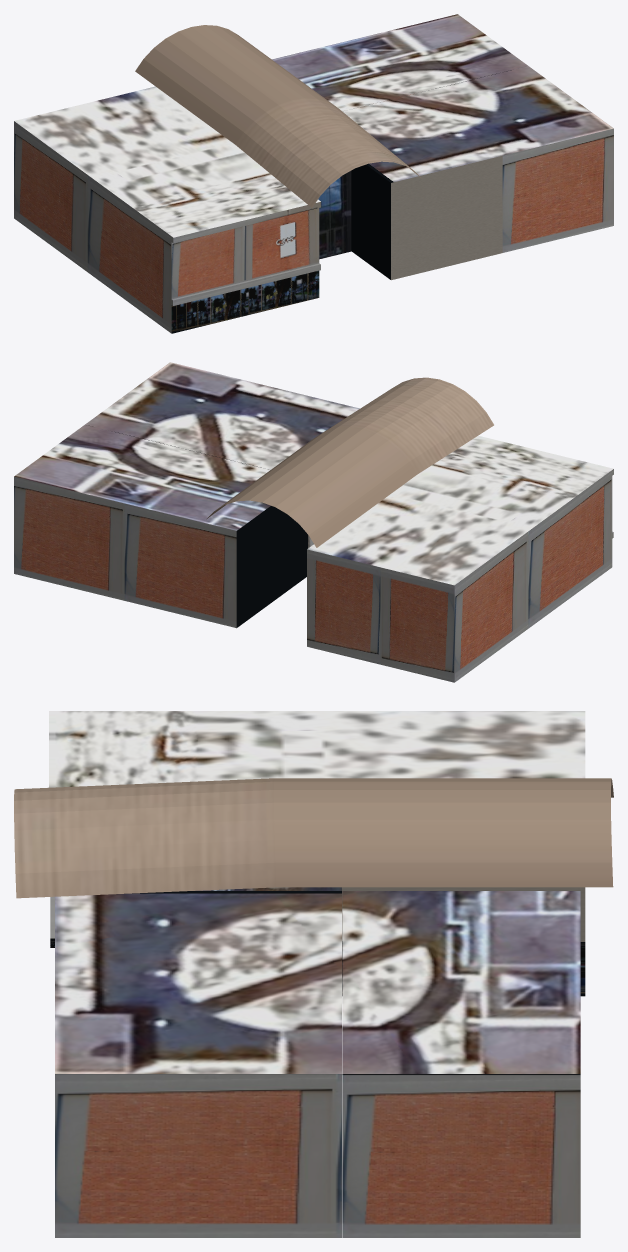
3 renders of one model, top to bottom at view 1: azimuth 30°, elevation 25°; view 2: azimuth 150°, elevation 25°; view 3: azimuth 270°, elevation 25°, orthographic. The views are drawn at different scales.
Visible parts, largest first — view 1: CUBO.002, CUBO, Cylinder, CUBO.001; view 2: CUBO.002, CUBO, Cylinder; view 3: CUBO.002, Cylinder, CUBO.
Boxes of the visible parts, bbox=[...] form: CUBO.002: bbox=[272, 14, 613, 280]; CUBO: bbox=[14, 86, 321, 333]; Cylinder: bbox=[135, 25, 421, 207]; CUBO.001: bbox=[318, 171, 351, 259]; CUBO.002: bbox=[14, 362, 359, 628]; CUBO: bbox=[307, 435, 613, 682]; Cylinder: bbox=[206, 377, 493, 547]; CUBO.002: bbox=[55, 891, 580, 1237]; Cylinder: bbox=[14, 778, 613, 898]; CUBO: bbox=[49, 711, 585, 996].
Size of the model in its own units: 6.27 by 1.91 by 4.38.
4 materials, 4 textured.
